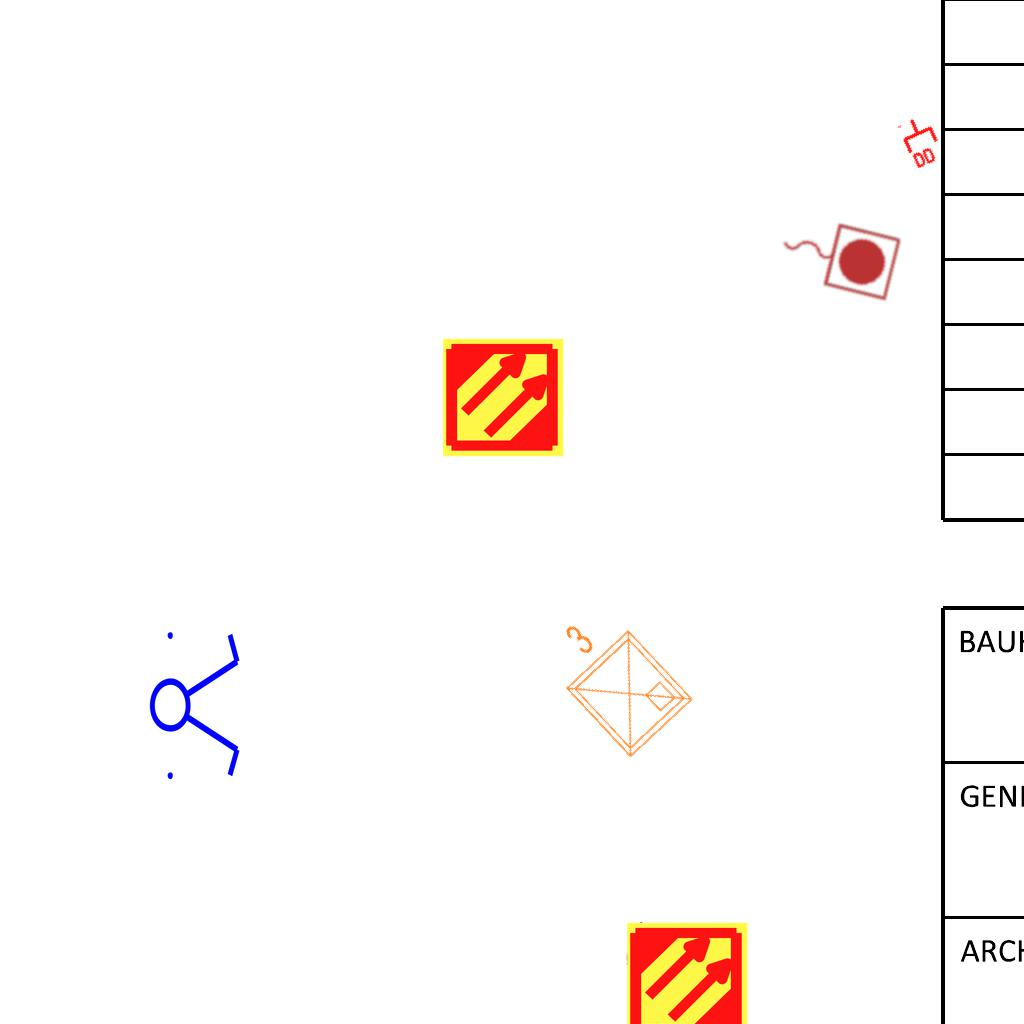ASR_Ansaugrauchmelder: (441, 335, 566, 460), (625, 919, 750, 1024)
Datenanschluss_zweifach: (896, 111, 948, 172)
Einbaudownlights_LED_Konferenzraeume: (524, 589, 704, 771)
Serienschalter: (148, 620, 244, 788), (621, 914, 679, 1004)
Zugtaster: (770, 205, 906, 305)
